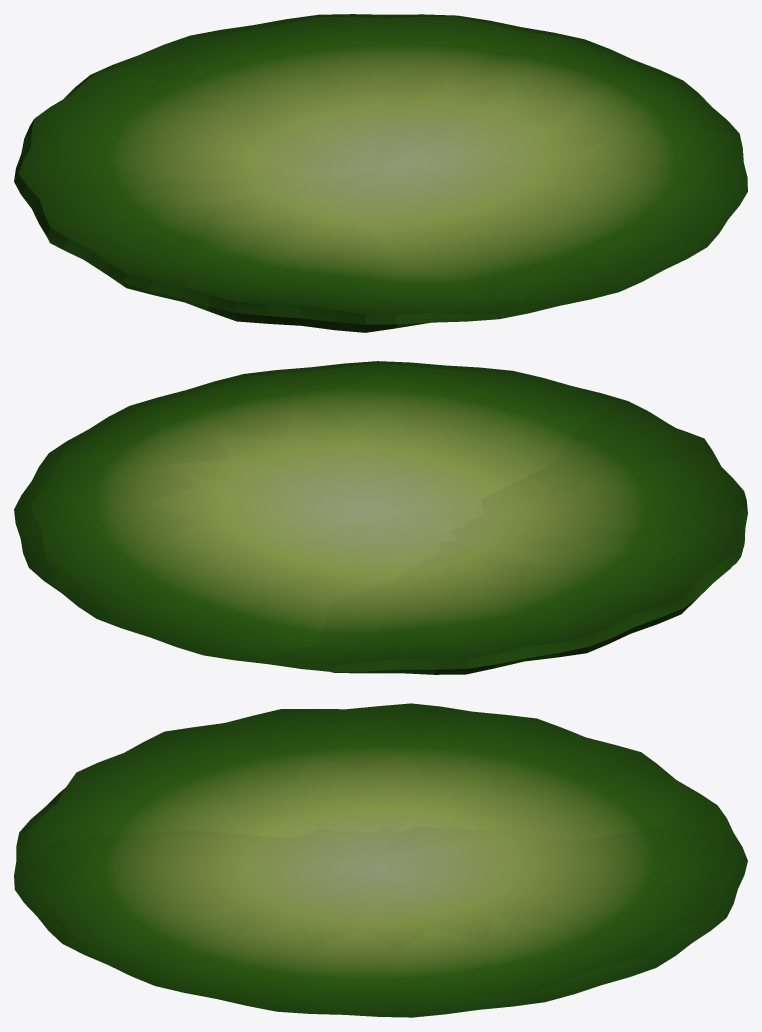
File: Pickles.fbx
3 views of the same model, one above another, from view 1: azimuth 30°, elevation 25°; view 2: azimuth 150°, elevation 25°; view 3: azimuth 270°, elevation 25° (orthographic).
Parts seen in each view (by area): view 1: Cylinder.184; view 2: Cylinder.184; view 3: Cylinder.184.
Boxes of the visible parts, x1=… form: Cylinder.184: x1=14, y1=14, x2=747, y2=332; Cylinder.184: x1=14, y1=361, x2=747, y2=674; Cylinder.184: x1=14, y1=703, x2=747, y2=1017.
Bounding box in the file's own units: 78.49 × 2.98 × 79.04.
1 material, 1 textured.
